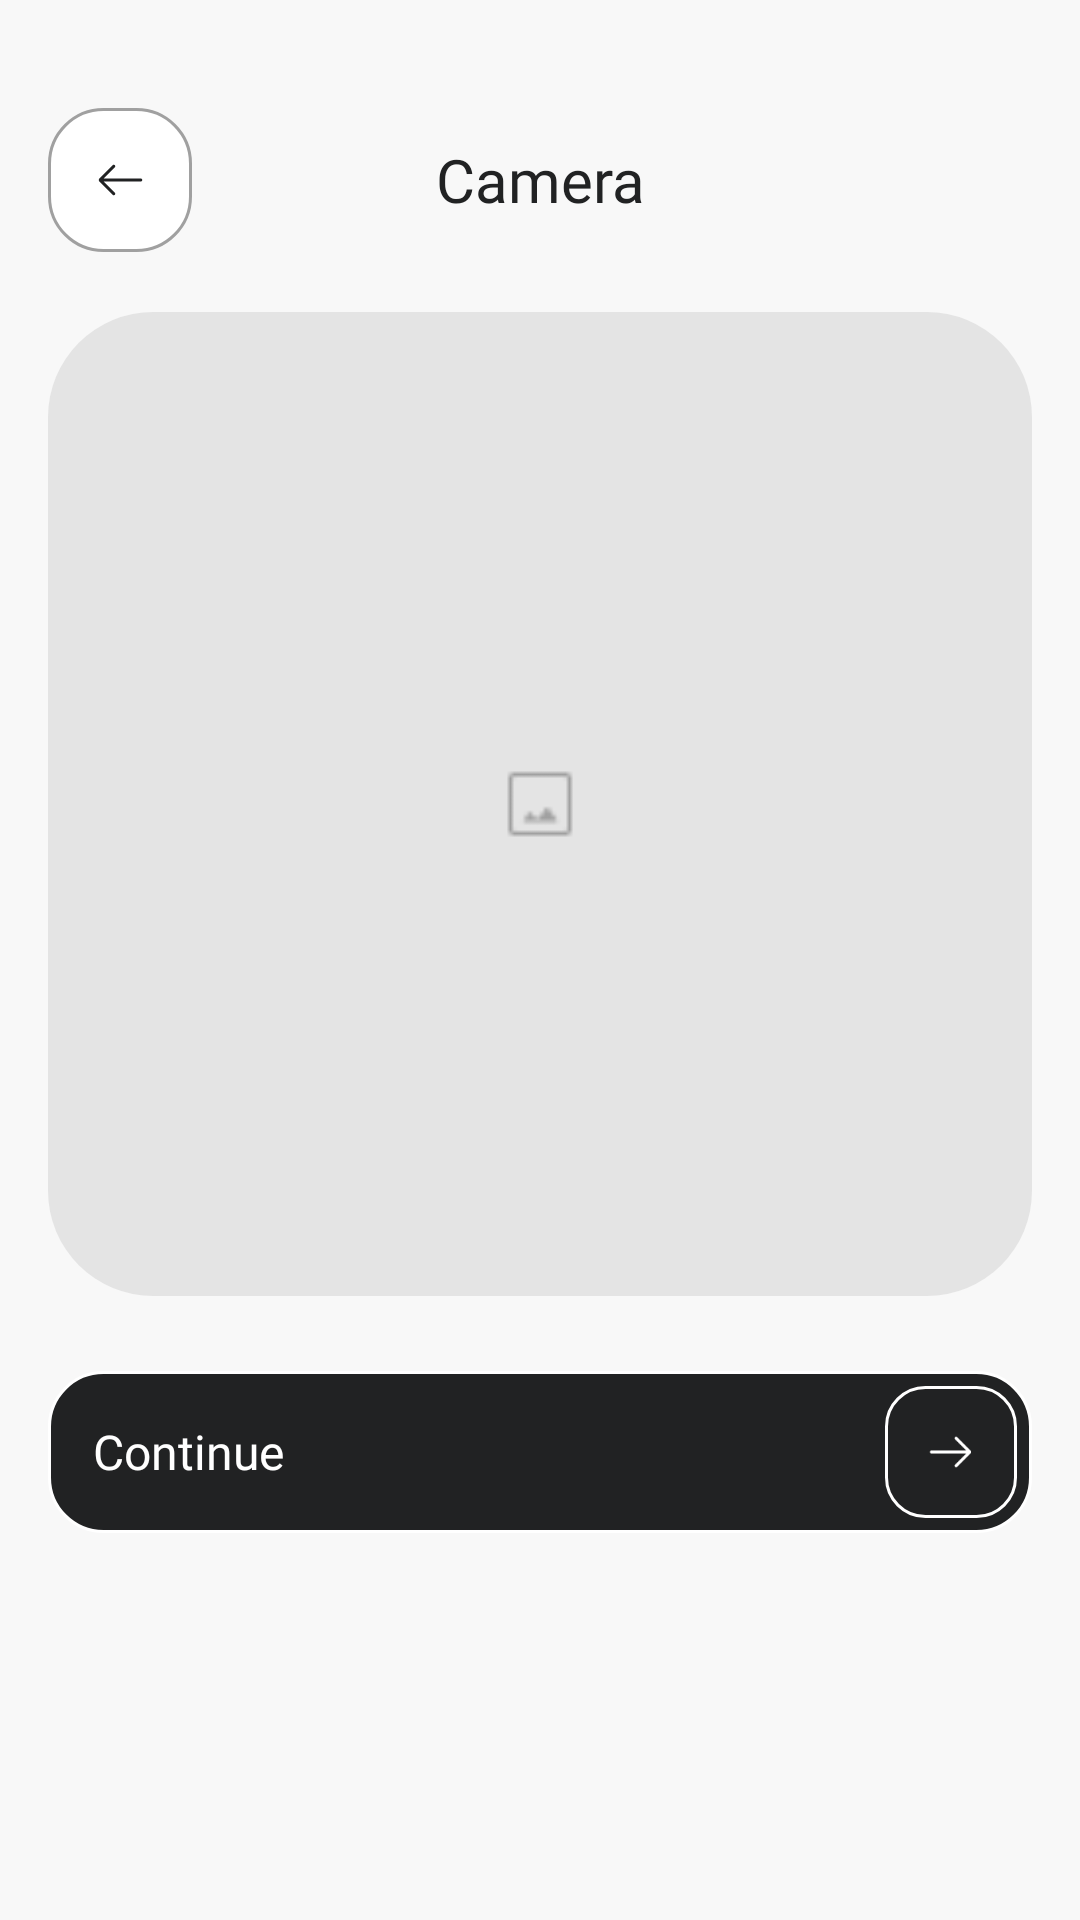

Icons on this 1080×1920 Android screen, each with the point to tap as (x,y):
Back Button: (120,180)
Next Button: (951,1452)
